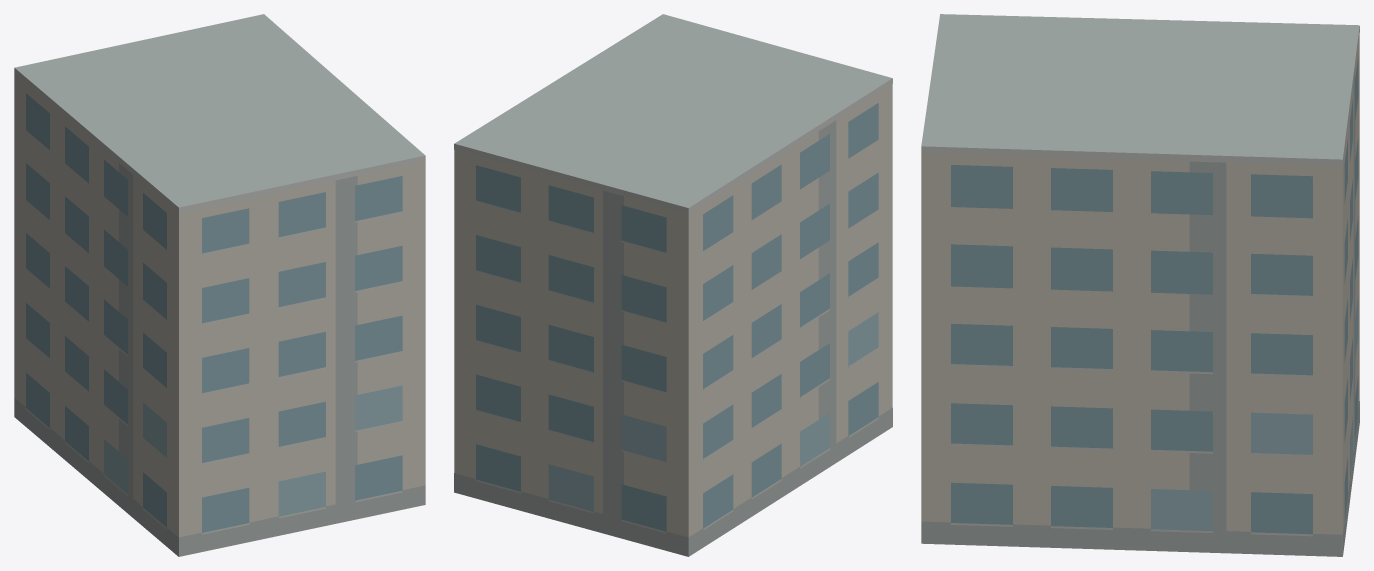
The model's file is survey-upis-32941145.glb.
3 views of the same model, side by side, from view 1: azimuth 30°, elevation 25°; view 2: azimuth 150°, elevation 25°; view 3: azimuth 270°, elevation 25° (orthographic). The views are drawn at different scales.
Visible parts, largest first — view 1: survey-upis-32941145.tmp; view 2: survey-upis-32941145.tmp; view 3: survey-upis-32941145.tmp.
Part boxes in pixels (x1,y1,x2,y2): survey-upis-32941145.tmp: [14, 14, 425, 556]; survey-upis-32941145.tmp: [454, 14, 892, 556]; survey-upis-32941145.tmp: [921, 14, 1359, 556].
Bounding box in the file's own units: 11.24 × 14.29 × 14.31.
